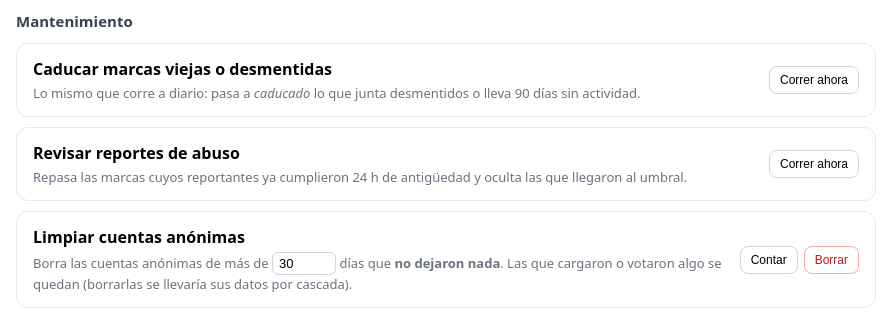
Test case: AdminTools › cambiar los días cancela una confirmación pendiente
This screenshot has width=893, height=325.
Click the button "Borrar".
click(831, 260)  # box [804,246,859,274]
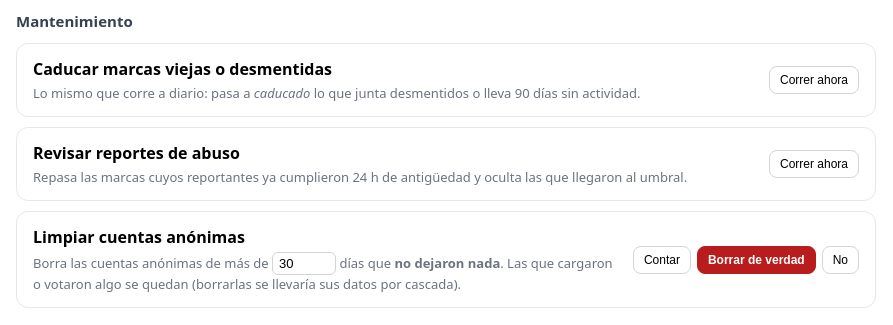
Type "0" into the number field named "días de antigüedad".
click(304, 264); type("0")  # box [272,252,336,275]
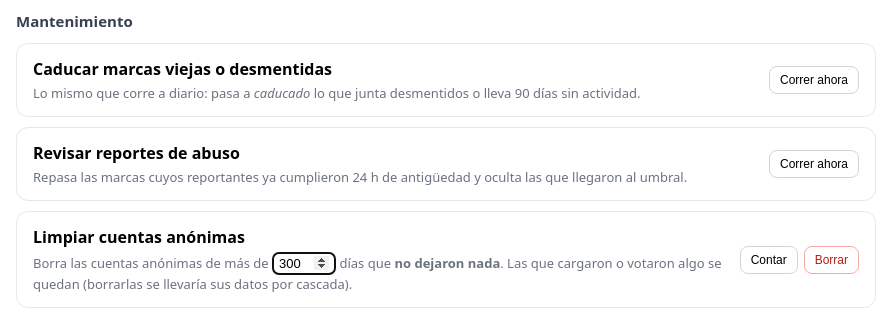
Expected: the button "Borrar" is shown, [804,246,859,274]
Expected: the button "Borrar de verdad" is gone
